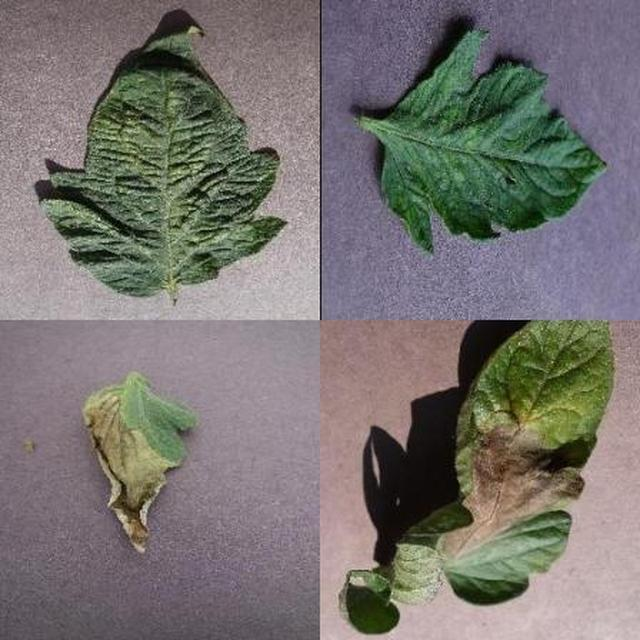Spider Mites Leaf: (168, 204, 640, 640)
